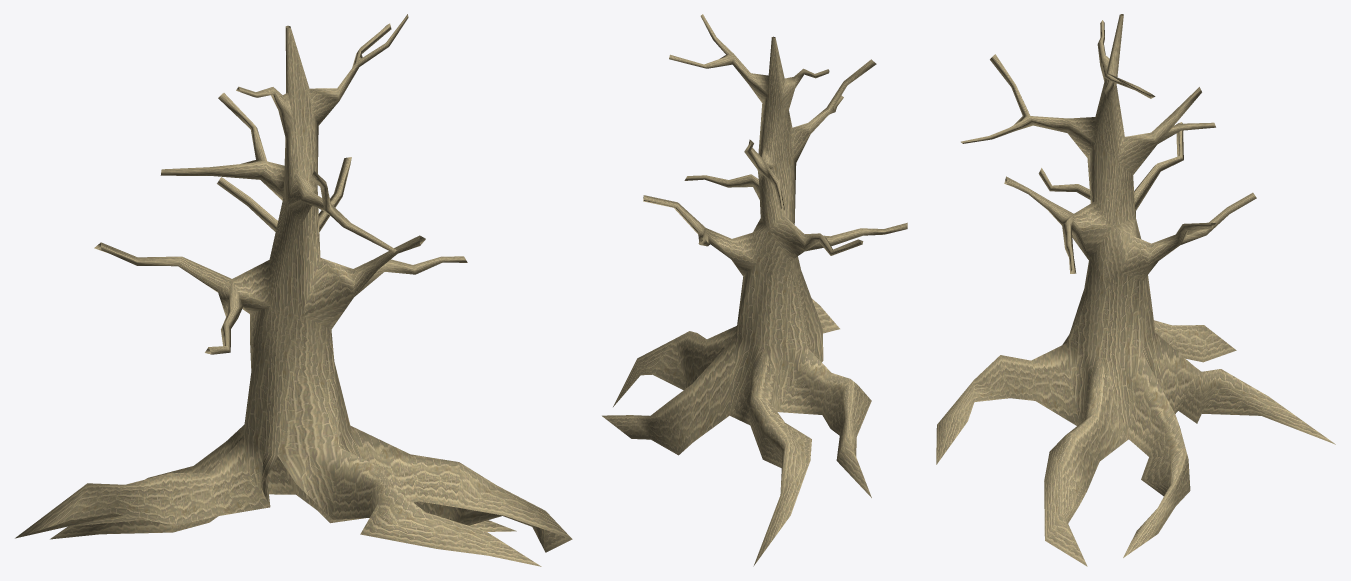
Rendered from HTOWN01_TREEA.fbx.
The picture shows the model from 3 angles, left to right: view 1: azimuth 30°, elevation 25°; view 2: azimuth 150°, elevation 25°; view 3: azimuth 270°, elevation 25°; orthographic projection. The views are drawn at different scales.
Visible parts, largest first — view 1: HTOWN01_TREEA; view 2: HTOWN01_TREEA; view 3: HTOWN01_TREEA.
Boxes of the visible parts, x1,y1,x2,y2 form: HTOWN01_TREEA: (15,14,572,566); HTOWN01_TREEA: (602,14,907,566); HTOWN01_TREEA: (936,14,1335,566).
Bounding box in the file's own units: 117192 × 148863 × 114499.
Materials: 5 (5 with a texture image).
